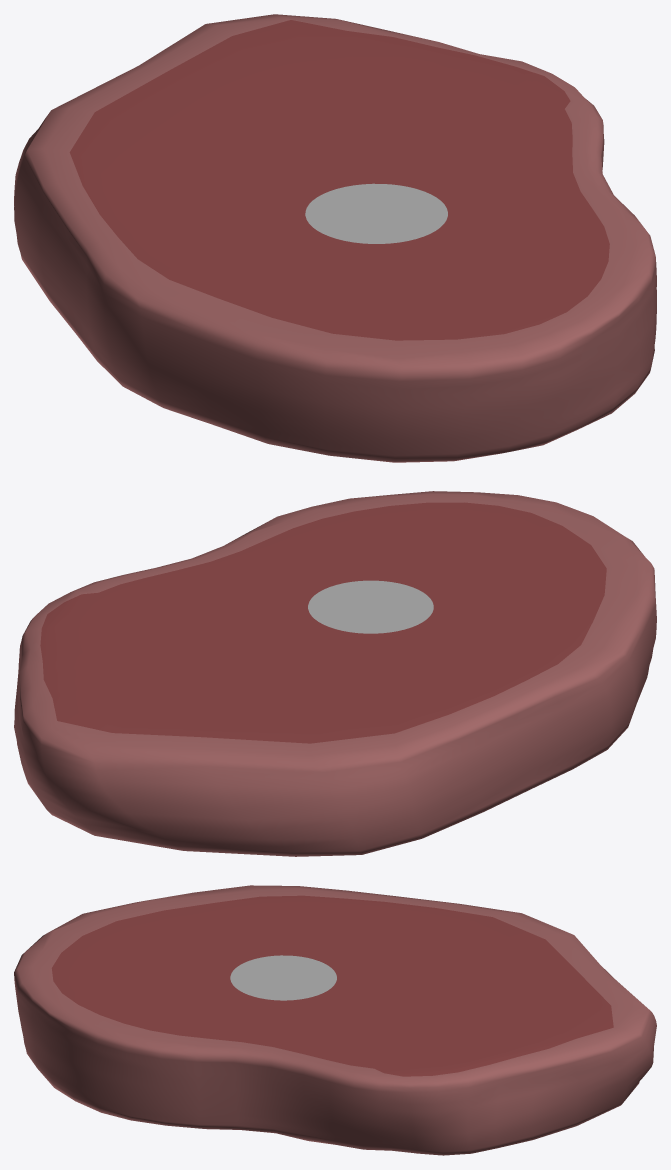
Rendered from Steak.fbx.
3 renders of one model, top to bottom at view 1: azimuth 30°, elevation 25°; view 2: azimuth 150°, elevation 25°; view 3: azimuth 270°, elevation 25°, orthographic. The views are drawn at different scales.
Parts seen in each view (by area): view 1: Steak; view 2: Steak; view 3: Steak.
Part boxes in pixels (x1=…): Steak: x1=14, y1=14, x2=656, y2=462; Steak: x1=14, y1=491, x2=656, y2=856; Steak: x1=14, y1=885, x2=656, y2=1155.
Size of the model in its own units: 26.73 by 5.06 by 35.67.
